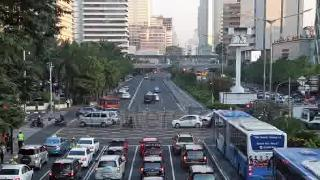mobil: (19, 145, 49, 171), (97, 155, 125, 180), (182, 146, 210, 170), (48, 158, 78, 180), (69, 146, 95, 170), (141, 158, 167, 180), (172, 115, 204, 131), (186, 166, 220, 180)
motor: (31, 112, 45, 131), (52, 113, 68, 127), (123, 116, 137, 130)
